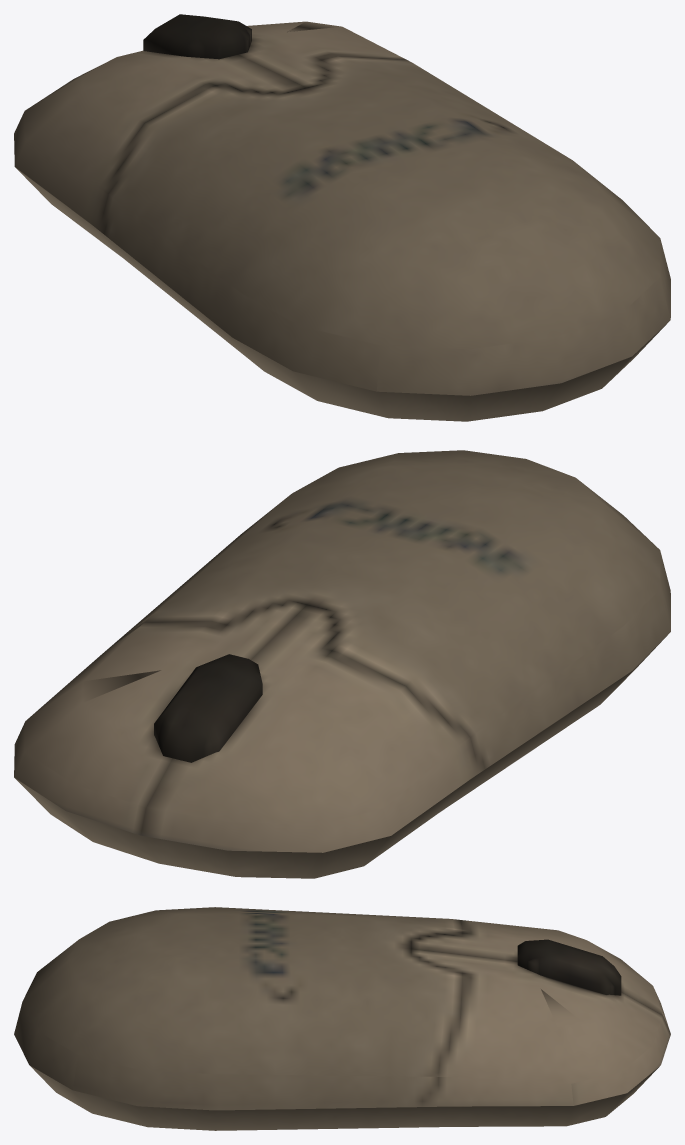
Rendered from pc_mouse_mp_1.dae.
3 views of the same model, one above another, from view 1: azimuth 30°, elevation 25°; view 2: azimuth 150°, elevation 25°; view 3: azimuth 270°, elevation 25° (orthographic). The views are drawn at different scales.
Parts seen in each view (by area): view 1: pc_mouse_mp_1; view 2: pc_mouse_mp_1; view 3: pc_mouse_mp_1.
Boxes of the visible parts, x1,y1,x2,y2 form: pc_mouse_mp_1: (14, 14, 670, 421); pc_mouse_mp_1: (14, 450, 670, 878); pc_mouse_mp_1: (14, 907, 670, 1130).
Bounding box in the file's own units: 0.0809 × 0.1475 × 0.0315.
1 material, 1 textured.
